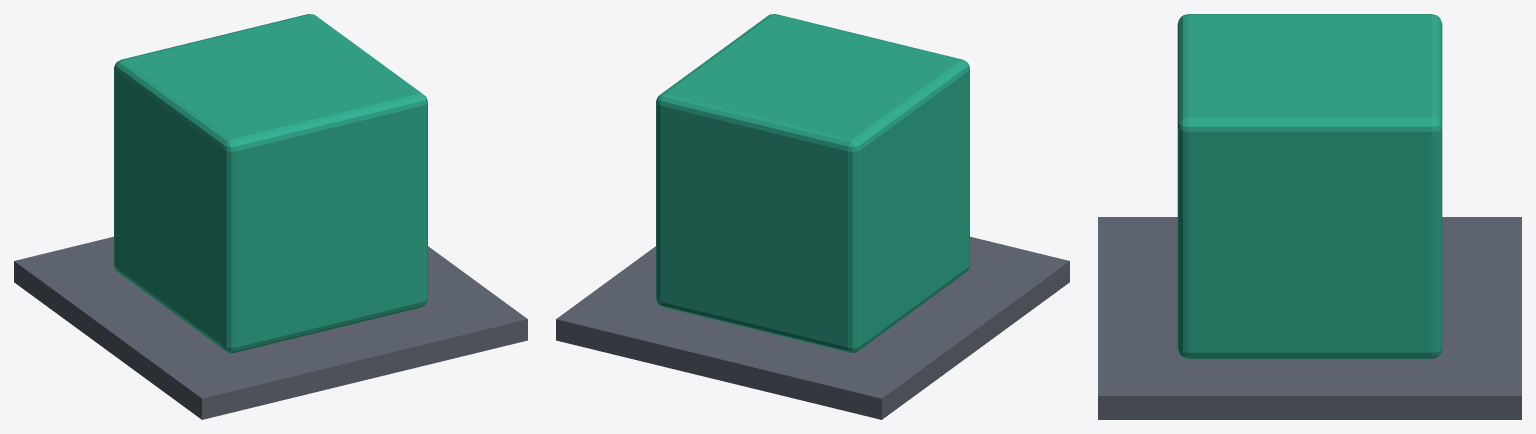
The model's file is meridius-mcp-test.glb.
The picture shows the model from 3 angles, left to right: view 1: azimuth 30°, elevation 25°; view 2: azimuth 150°, elevation 25°; view 3: azimuth 270°, elevation 25°; orthographic projection. The views are drawn at different scales.
Parts seen in each view (by area): view 1: Meridius_MCP_Test_Cube, Meridius_MCP_Test_Base; view 2: Meridius_MCP_Test_Cube, Meridius_MCP_Test_Base; view 3: Meridius_MCP_Test_Cube, Meridius_MCP_Test_Base.
Part boxes in pixels (x1,y1,x2,y2): Meridius_MCP_Test_Cube: (114, 14, 427, 352); Meridius_MCP_Test_Base: (14, 236, 527, 419); Meridius_MCP_Test_Cube: (656, 14, 969, 352); Meridius_MCP_Test_Base: (556, 236, 1069, 419); Meridius_MCP_Test_Cube: (1177, 14, 1442, 358); Meridius_MCP_Test_Base: (1098, 217, 1521, 419).
Size of the model in its own units: 1.6 by 1.1 by 1.6.
